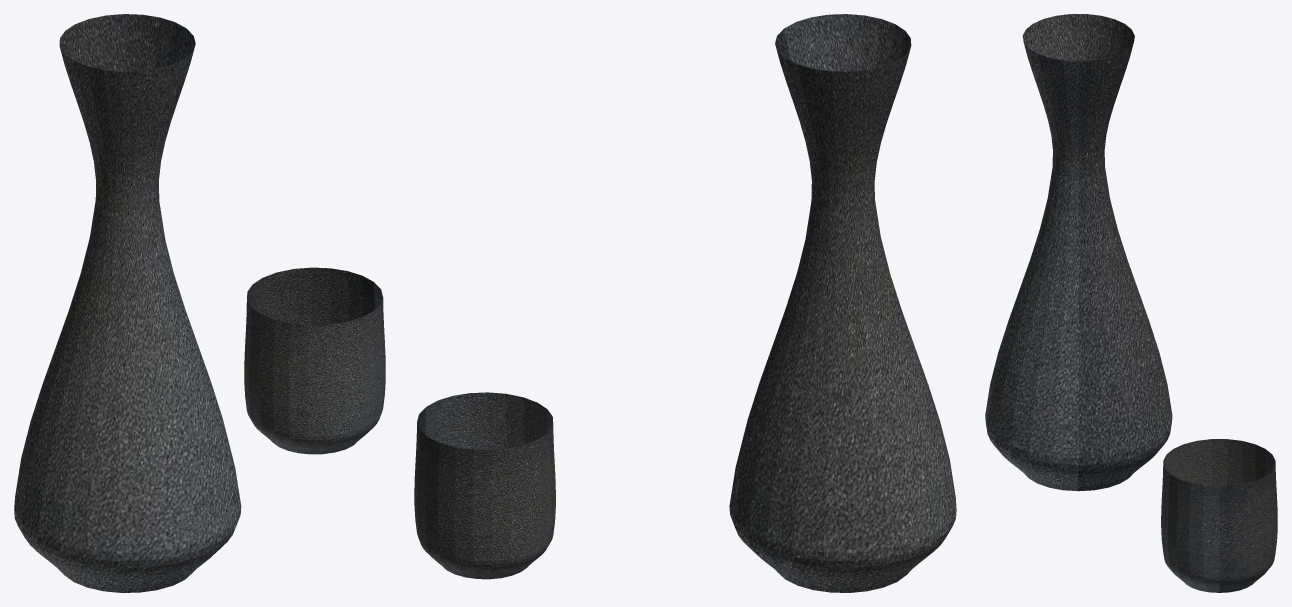
File: vase.obj
3 renders of one model, left to right at view 1: azimuth 30°, elevation 25°; view 2: azimuth 150°, elevation 25°; view 3: azimuth 270°, elevation 25°, orthographic. The views are drawn at different scales.
Visible parts, largest first — view 1: vase.2, vase; view 2: vase.2, vase; view 3: vase.2, vase.
Part boxes in pixels (x1,y1,x2,y2): vase.2: (14, 14, 241, 592); vase: (244, 267, 385, 454); vase.2: (729, 14, 956, 592); vase: (414, 392, 555, 579); vase.2: (985, 14, 1172, 491); vase: (1161, 439, 1277, 592).
Size of the model in its own units: 21.89 by 25.26 by 15.59.
1 material, 1 textured.
